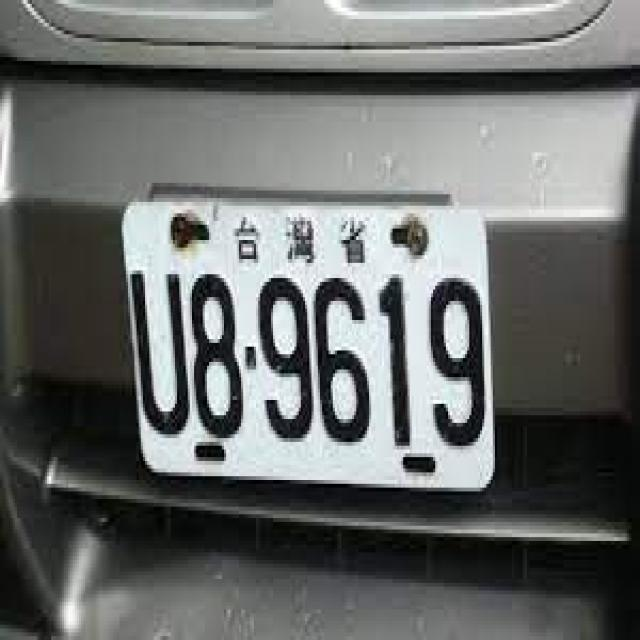license-plate: (114, 185, 498, 506)
